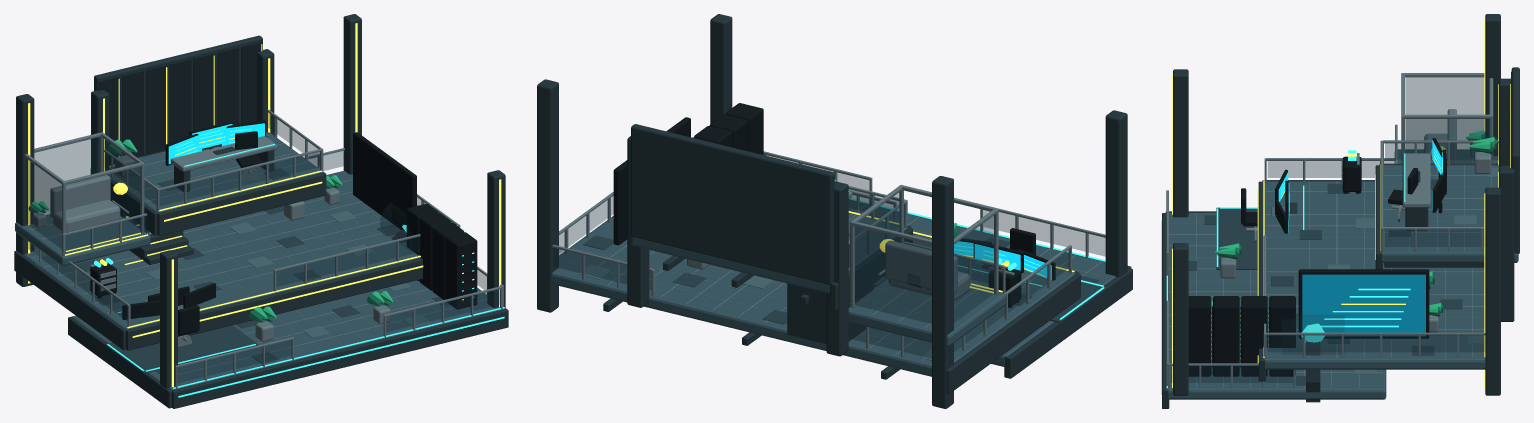
The model's file is tower.glb.
The picture shows the model from 3 angles, left to right: view 1: azimuth 30°, elevation 25°; view 2: azimuth 150°, elevation 25°; view 3: azimuth 270°, elevation 25°; orthographic projection. The views are drawn at different scales.
Visible parts, largest first — view 1: tower_structure, tower_floor, tower_glass, tower_structurelight, tower_dark, tower_panelinset, tower_amberglow, tower_floorinsetb, tower_floorgrid, tower_cyanglow, tower_floorinseta, tower_screen (+2 smaller); view 2: tower_structure, tower_floor, tower_glass, tower_structurelight, tower_dark, tower_floorinsetb, tower_floorgrid, tower_screen, tower_cyanglow, tower_floorinseta; view 3: tower_floor, tower_structure, tower_glass, tower_dark, tower_structurelight, tower_reviewscreen, tower_floorinsetb, tower_floorgrid, tower_amberglow, tower_cyanglow, tower_floorinseta, tower_leavesa (+2 smaller).
Part boxes in pixels (bbox=[...]): tower_structure: bbox=[14, 14, 508, 408]; tower_floor: bbox=[15, 132, 505, 389]; tower_glass: bbox=[26, 113, 499, 382]; tower_structurelight: bbox=[24, 109, 503, 388]; tower_dark: bbox=[90, 120, 477, 336]; tower_panelinset: bbox=[98, 41, 262, 162]; tower_amberglow: bbox=[28, 23, 501, 387]; tower_floorinsetb: bbox=[76, 135, 449, 373]; tower_floorgrid: bbox=[29, 134, 486, 383]; tower_cyanglow: bbox=[94, 128, 504, 397]; tower_floorinseta: bbox=[30, 159, 430, 337]; tower_screen: bbox=[168, 123, 264, 163]; tower_structure: bbox=[537, 14, 1132, 408]; tower_floor: bbox=[551, 200, 1115, 376]; tower_glass: bbox=[553, 155, 1105, 358]; tower_structurelight: bbox=[552, 151, 1105, 357]; tower_dark: bbox=[613, 103, 1055, 307]; tower_floorinsetb: bbox=[583, 234, 1107, 324]; tower_floorgrid: bbox=[559, 204, 1109, 361]; tower_screen: bbox=[954, 241, 1051, 280]; tower_cyanglow: bbox=[848, 191, 1105, 319]; tower_floorinseta: bbox=[578, 263, 983, 360]; tower_floor: bbox=[1166, 149, 1518, 399]; tower_structure: bbox=[1162, 14, 1519, 408]; tower_glass: bbox=[1171, 77, 1498, 382]; tower_dark: bbox=[1188, 138, 1446, 376]; tower_structurelight: bbox=[1166, 73, 1498, 387]; tower_reviewscreen: bbox=[1302, 274, 1425, 336]; tower_floorinsetb: bbox=[1188, 179, 1462, 385]; tower_floorgrid: bbox=[1169, 159, 1497, 387]; tower_amberglow: bbox=[1172, 19, 1510, 389]; tower_cyanglow: bbox=[1161, 148, 1442, 394]; tower_floorinseta: bbox=[1205, 167, 1498, 374]; tower_leavesa: bbox=[1211, 130, 1494, 315].
Size of the model in its own units: 12.66 by 7.17 by 10.57.
